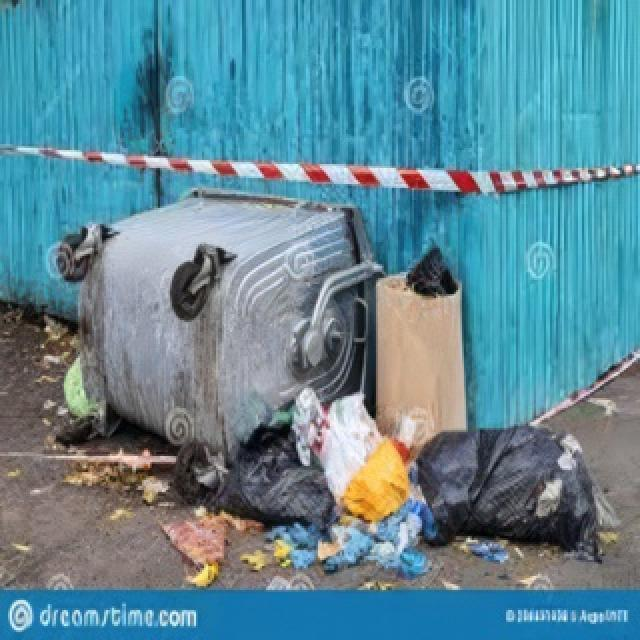Trashbag: (411, 426, 600, 550), (217, 428, 332, 531)
